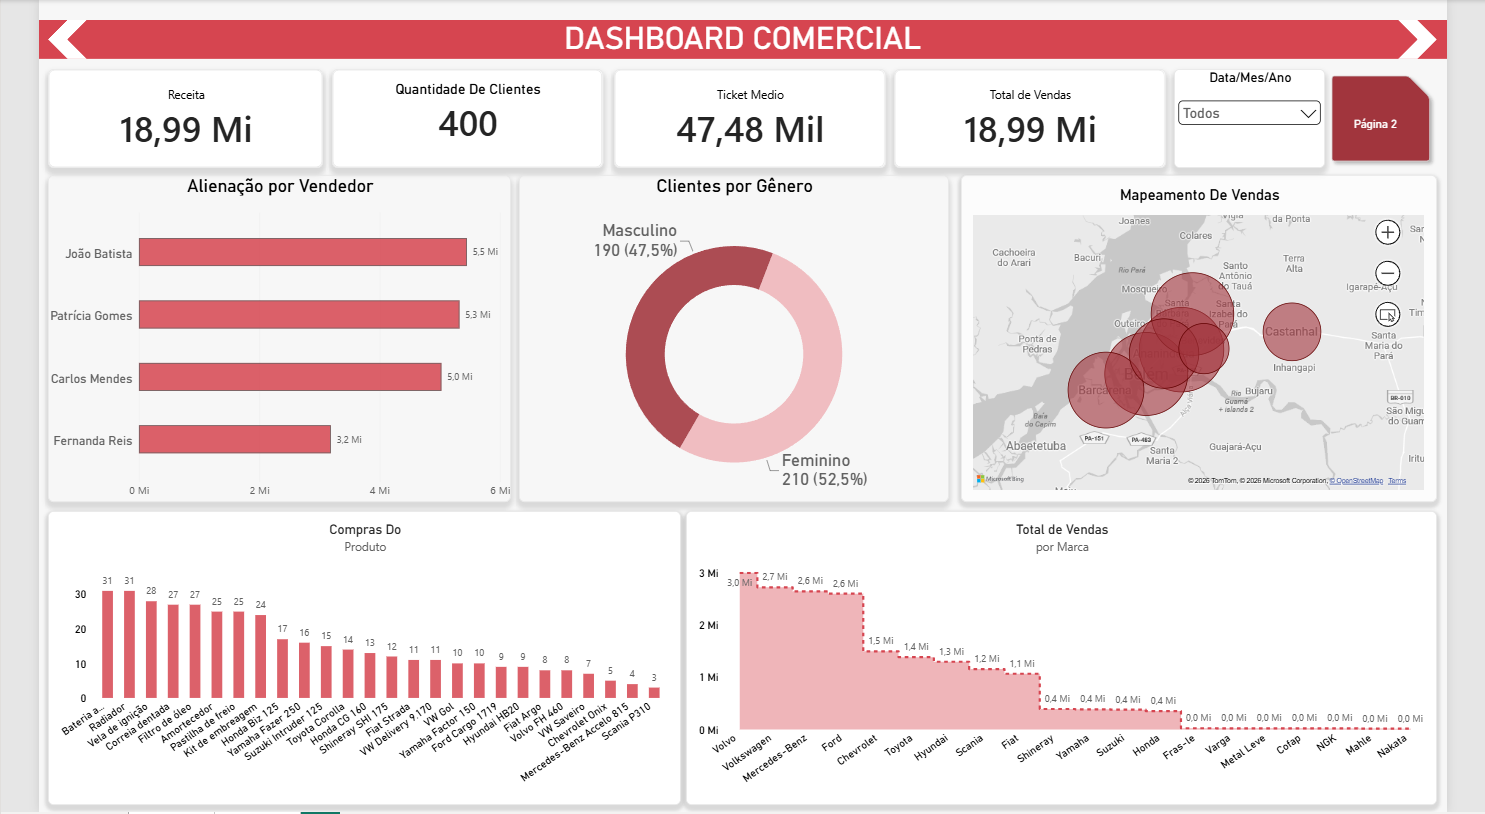

The page's visual inventory and layout, read from the dashboard file:
{"tool":"powerbi","page":{"name":"pagina 1","canvas":[1920,1080],"ordinal":0},"visuals":[{"type":"textbox","box":[0,0,1920,53.2],"z":3000},{"type":"cardVisual","fields":{"Data":["Vendas.receita"]},"box":[12.3,66.8,375,135],"z":4000},{"type":"cardVisual","fields":{"Data":["Vendas.Ticket Medio"]},"box":[784.1,66.8,370.9,135],"z":5000},{"type":"cardVisual","fields":{"Data":["Vendas.Total de Vendas"]},"box":[1165.9,66.8,370.9,135],"z":6000},{"type":"cardVisual","title":"Clientes","fields":{"Data":["Vendas.QTD De Clientes"]},"box":[399.5,66.8,369.5,135],"z":7000},{"type":"slicer","title":"Data/Mes/Ano","fields":{"Values":["Vendas.Data"]},"box":[1547.7,66.8,205.9,135],"z":8000},{"type":"barChart","title":"Alienação por Vendedor","fields":{"Category":["Vendas.Vendedor"],"Y":["Vendas.Total de Vendas"]},"box":[12.3,211.4,631.4,445.9],"z":9000},{"type":"pieChart","title":"Clientes por Gênero","fields":{"Category":["Vendas.Gênero"],"Y":["Vendas.QTD De Clientes"]},"box":[654.5,211.4,586.4,445.9],"z":10000},{"type":"map","title":"Mapeamento De Vendas","fields":{"Category":["Vendas.Cidade"],"Size":["Vendas.Total de Vendas"]},"box":[1257.3,211.4,649.1,445.9],"z":11000},{"type":"clusteredColumnChart","title":" Compras Do","fields":{"Category":["Vendas.Produto"],"Y":["Vendas.QTD De Clientes"]},"box":[12.3,669.5,863.2,400.9],"z":12000},{"type":"areaChart","fields":{"Category":["Vendas.Marca"],"Y":["Vendas.Total de Vendas"]},"box":[882.3,669.5,1024.1,400.9],"z":13000},{"type":"shape","box":[12.3,0,53.2,53.2],"z":14000},{"type":"shape","box":[1853.2,0,53.2,53.2],"z":15000},{"type":"pageNavigator","box":[1753.6,66.8,152.7,135],"z":16000}]}

Visuals, with their boxes in screenshot pixels (x1, y1, x2, y2), scaled from the page's 1920x1080 canvas onto the 1485x814 screenshot:
textbox: select_region(0, 0, 1484, 40)
cardVisual - Vendas.receita: select_region(10, 50, 300, 152)
cardVisual - Vendas.Ticket Medio: select_region(606, 50, 893, 152)
cardVisual - Vendas.Total de Vendas: select_region(902, 50, 1189, 152)
"Clientes" cardVisual: select_region(309, 50, 595, 152)
"Data/Mes/Ano" slicer: select_region(1197, 50, 1356, 152)
"Alienação por Vendedor" barChart: select_region(10, 159, 498, 495)
"Clientes por Gênero" pieChart: select_region(506, 159, 960, 495)
"Mapeamento De Vendas" map: select_region(972, 159, 1474, 495)
" Compras Do" clusteredColumnChart: select_region(10, 505, 677, 807)
areaChart - Vendas.Marca x Vendas.Total de Vendas: select_region(682, 505, 1474, 807)
shape: select_region(10, 0, 51, 40)
shape: select_region(1433, 0, 1474, 40)
pageNavigator: select_region(1356, 50, 1474, 152)
